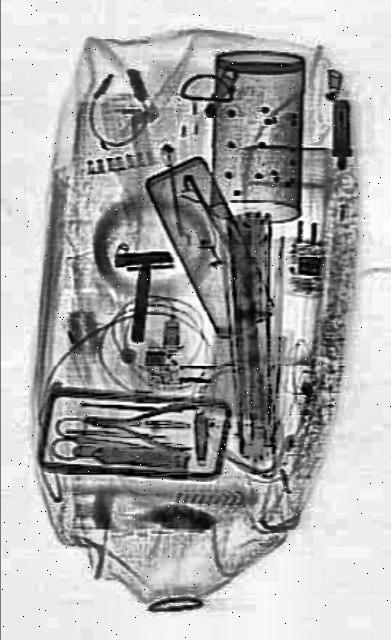Scissors: (49, 420, 167, 466)
